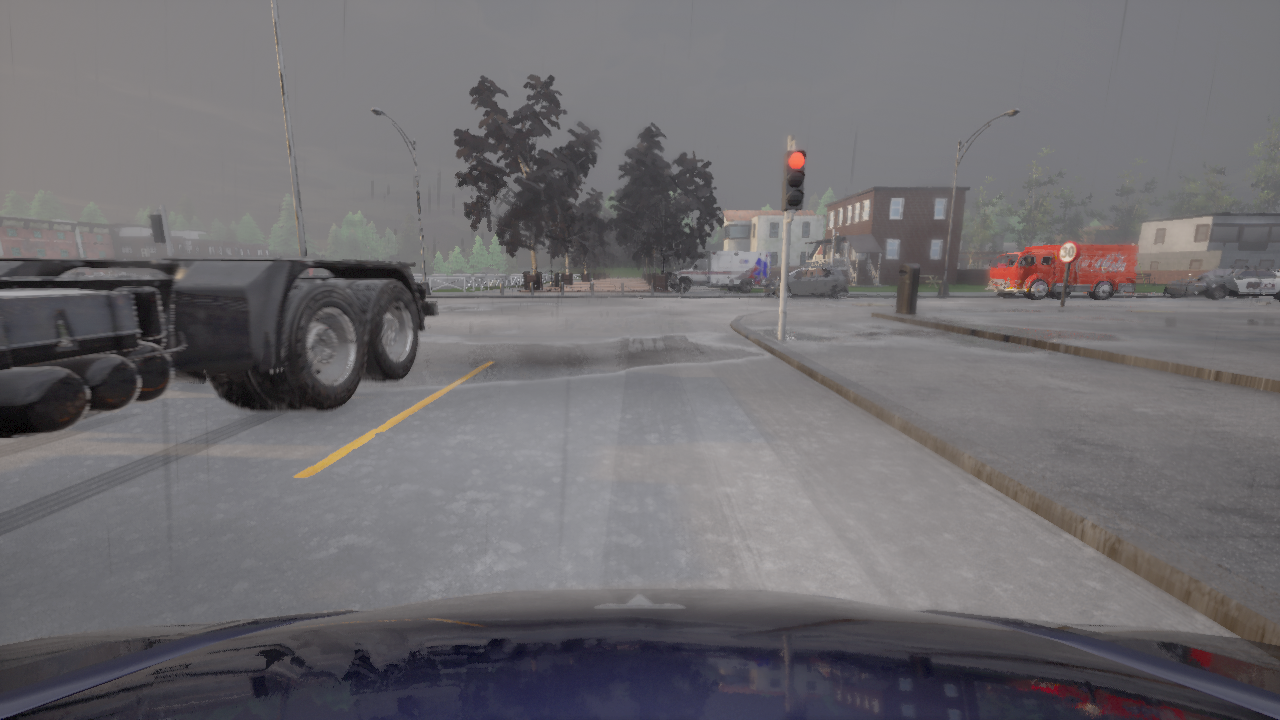cyclist: (0, 588, 1279, 719), (0, 257, 437, 438), (984, 244, 1138, 301), (667, 250, 771, 292), (1162, 266, 1279, 300), (763, 267, 847, 299), (1264, 268, 1279, 271)
